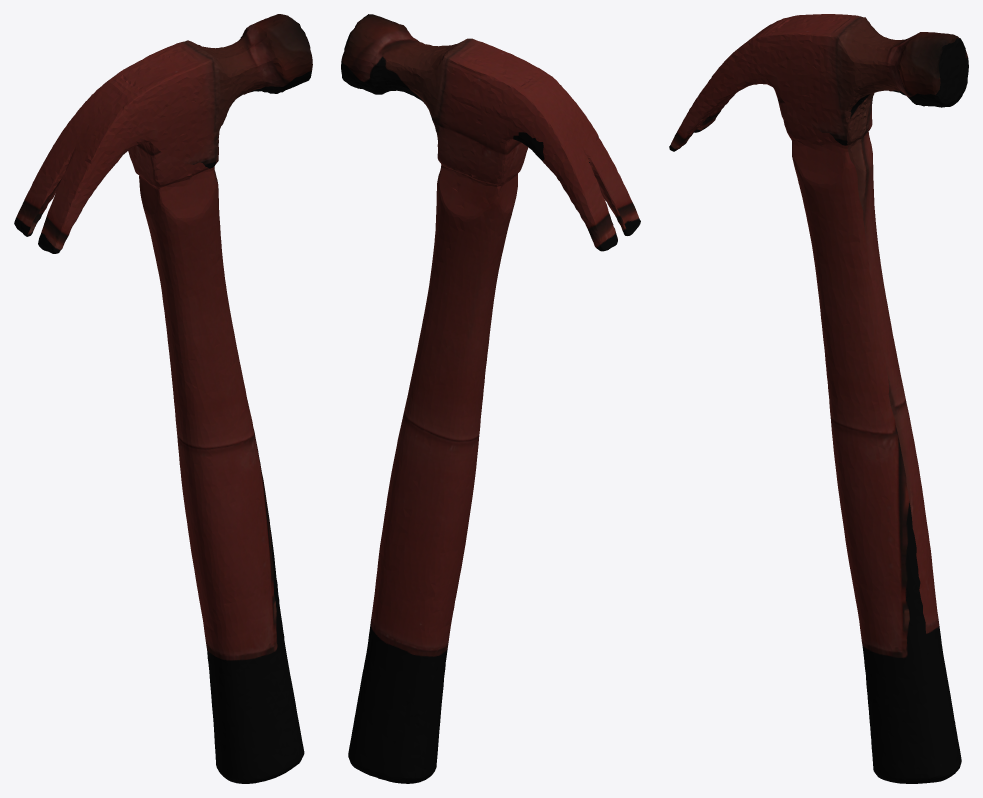
3 views of the same model, side by side, from view 1: azimuth 30°, elevation 25°; view 2: azimuth 150°, elevation 25°; view 3: azimuth 330°, elevation 25° (orthographic).
Bounding box in the file's own units: 0.1264 × 0.3355 × 0.0329.
